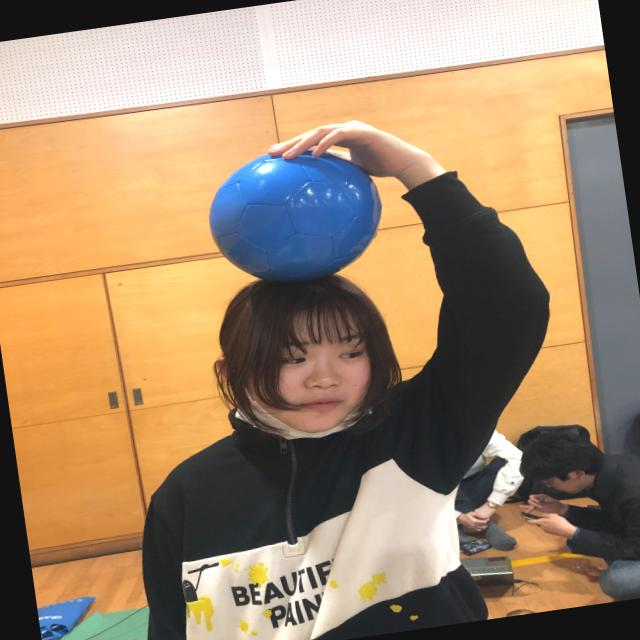blue_ball: (204, 136, 396, 291)
